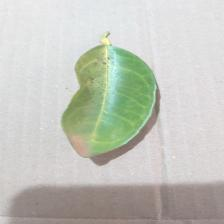greening: (52, 42, 164, 131)
